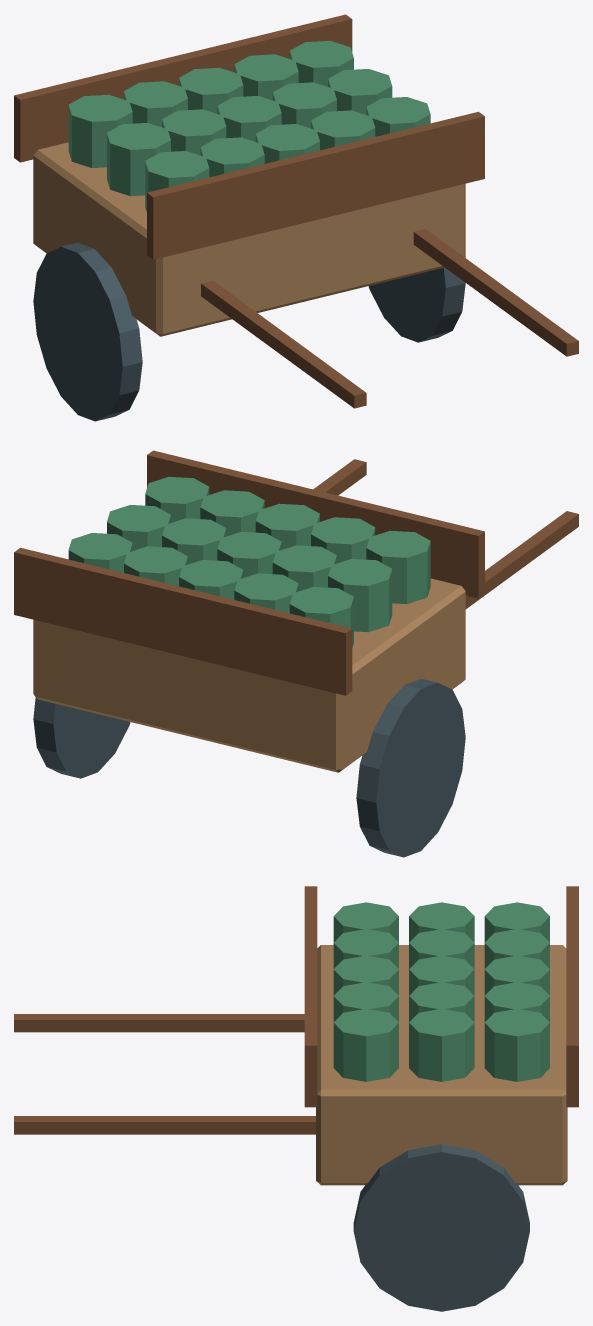
File: fruit_cart.glb
3 views of the same model, one above another, from view 1: azimuth 30°, elevation 25°; view 2: azimuth 150°, elevation 25°; view 3: azimuth 270°, elevation 25° (orthographic).
Parts seen in each view (by area): view 1: fruit_cart; view 2: fruit_cart; view 3: fruit_cart.
Boxes of the visible parts, box(x1,y1,x2,y2) form: fruit_cart: box(14, 14, 578, 421); fruit_cart: box(14, 450, 578, 857); fruit_cart: box(14, 886, 578, 1311).
Bounding box in the file's own units: 1.55 × 1.16 × 2.25.
